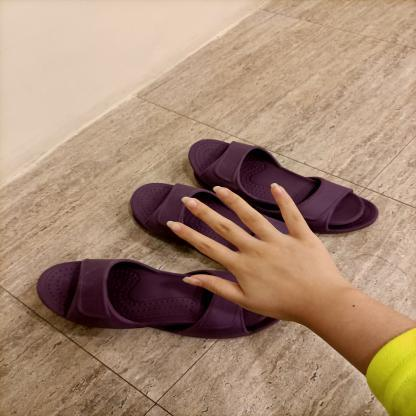bare_hand: (156, 169, 365, 330)
